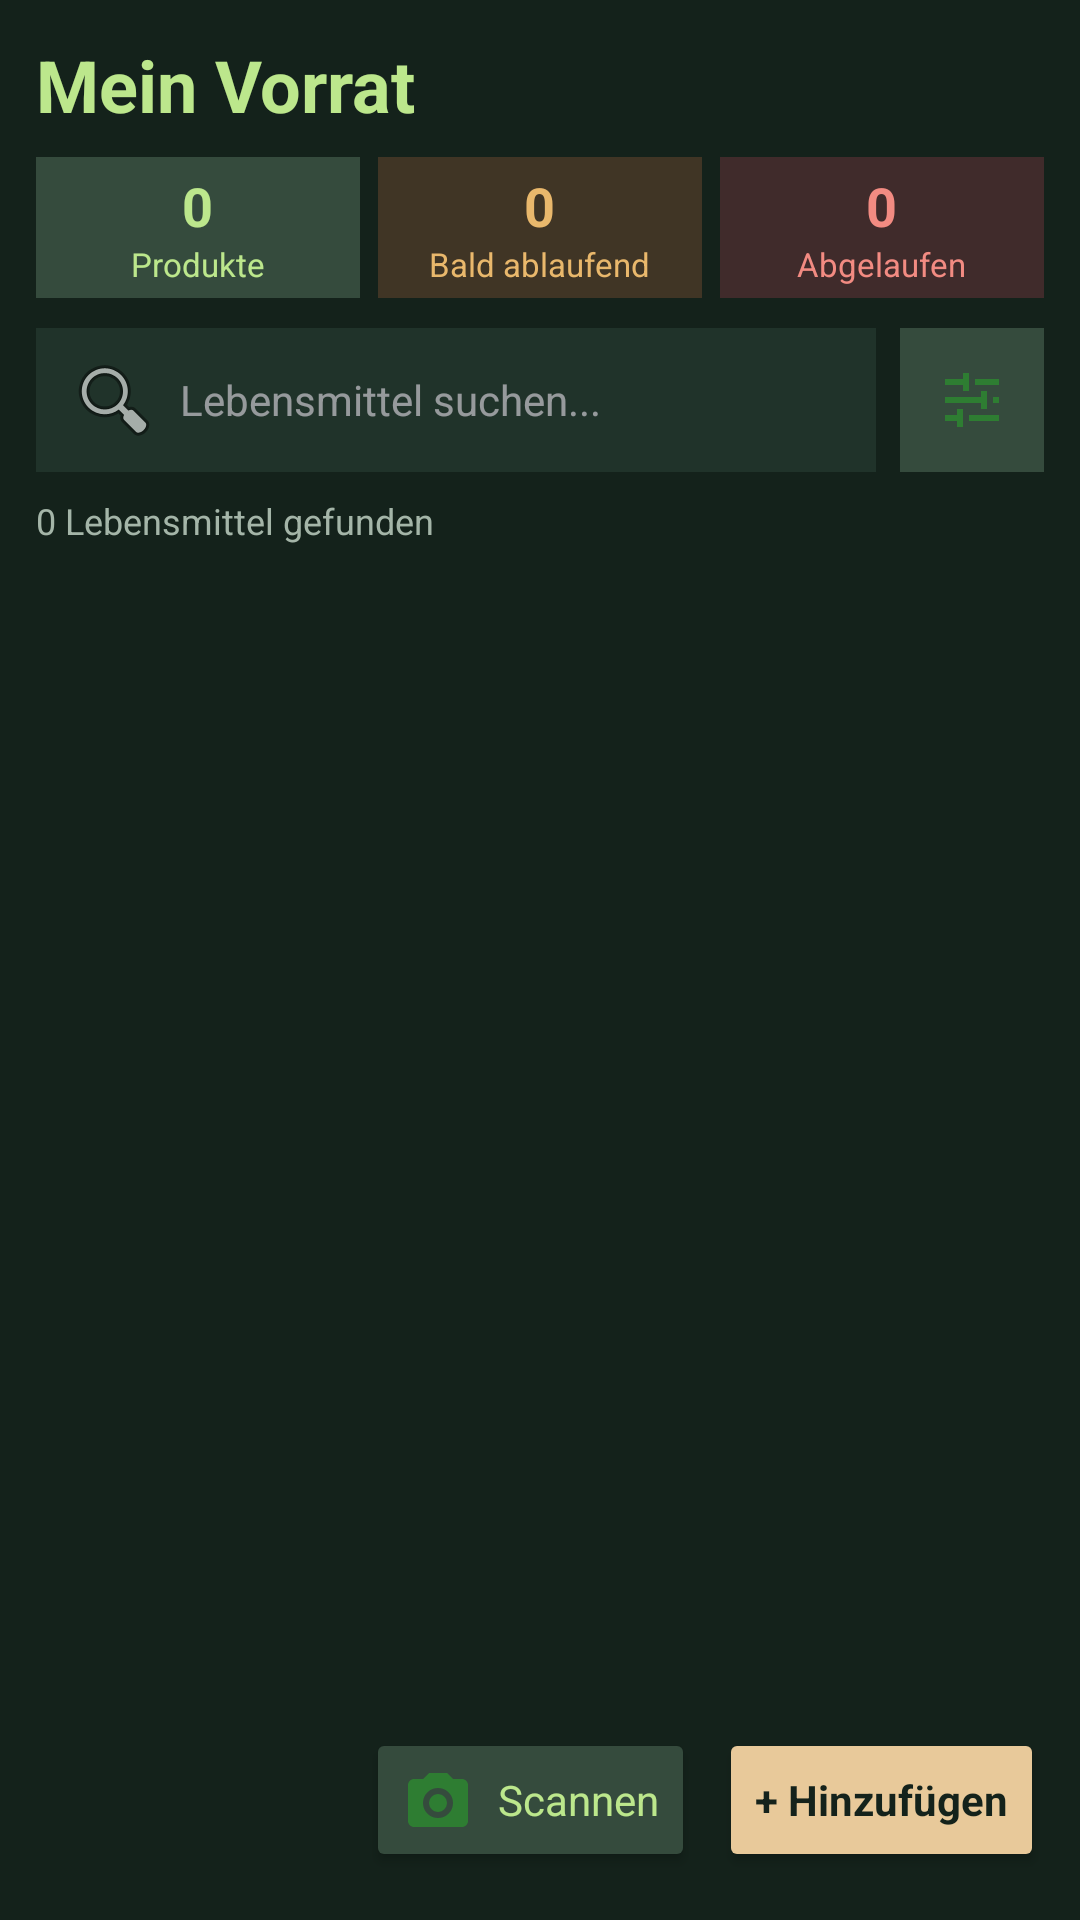

Screen size 1080×1920. Icon name, then its center in pixels as (x,y):
Filter und Sortierung: (972,400)
